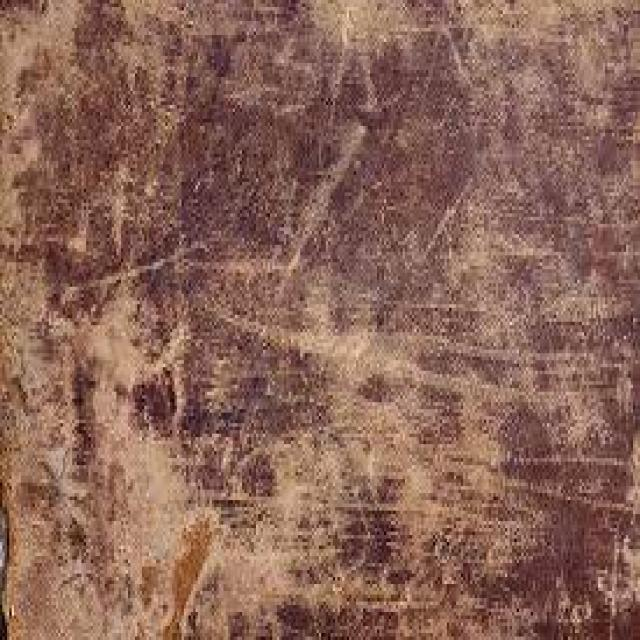Hole: (140, 454, 312, 618)
Rotten surface: (303, 322, 526, 558), (16, 274, 133, 606)
